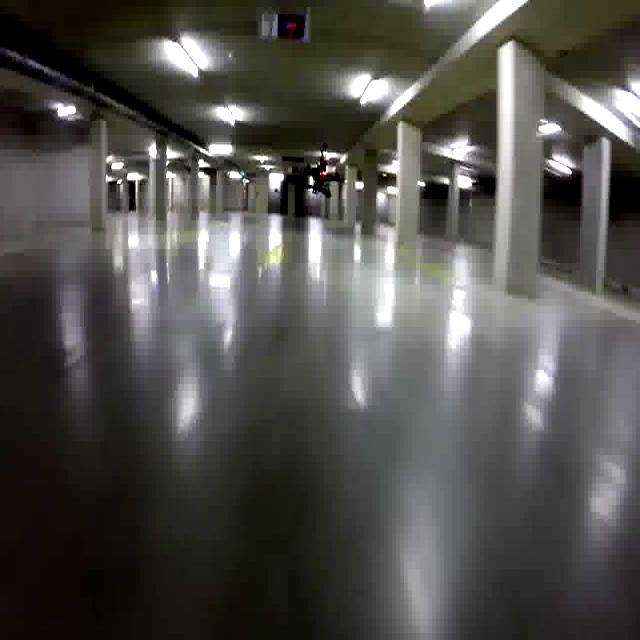drone: (292, 143, 348, 212)
